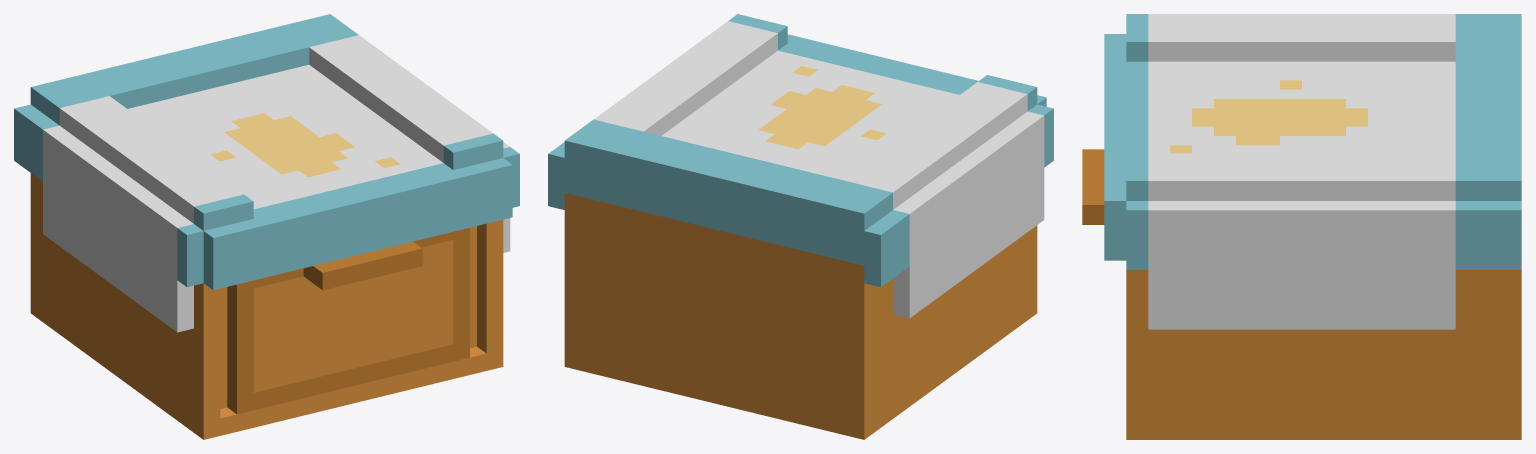
File: obj_care_table.obj
The picture shows the model from 3 angles, left to right: view 1: azimuth 30°, elevation 25°; view 2: azimuth 150°, elevation 25°; view 3: azimuth 270°, elevation 25°; orthographic projection. The views are drawn at different scales.
Visible parts, largest first — view 1: obj_care_table; view 2: obj_care_table; view 3: obj_care_table.
Boxes of the visible parts, x1,y1,x2,y2 form: obj_care_table: (14, 14, 519, 439); obj_care_table: (548, 14, 1053, 439); obj_care_table: (1082, 14, 1521, 439).
Size of the model in its own units: 20 by 13 by 20.
1 material, 1 textured.
